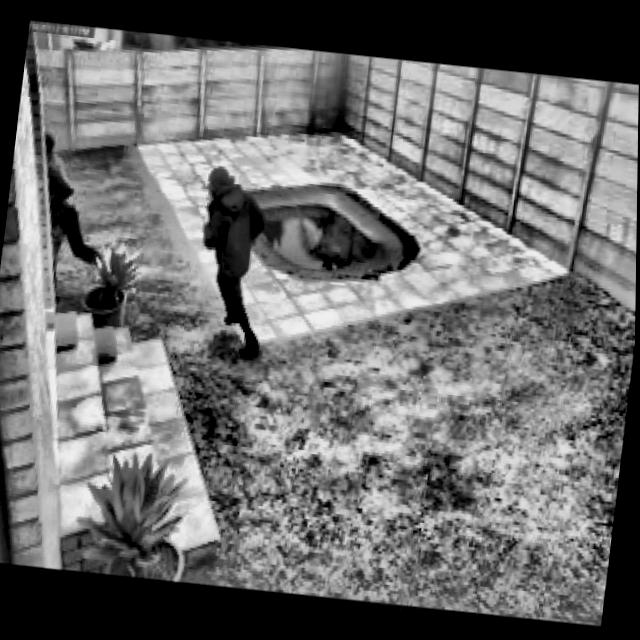burglary: (182, 157, 288, 366), (12, 126, 124, 296)
